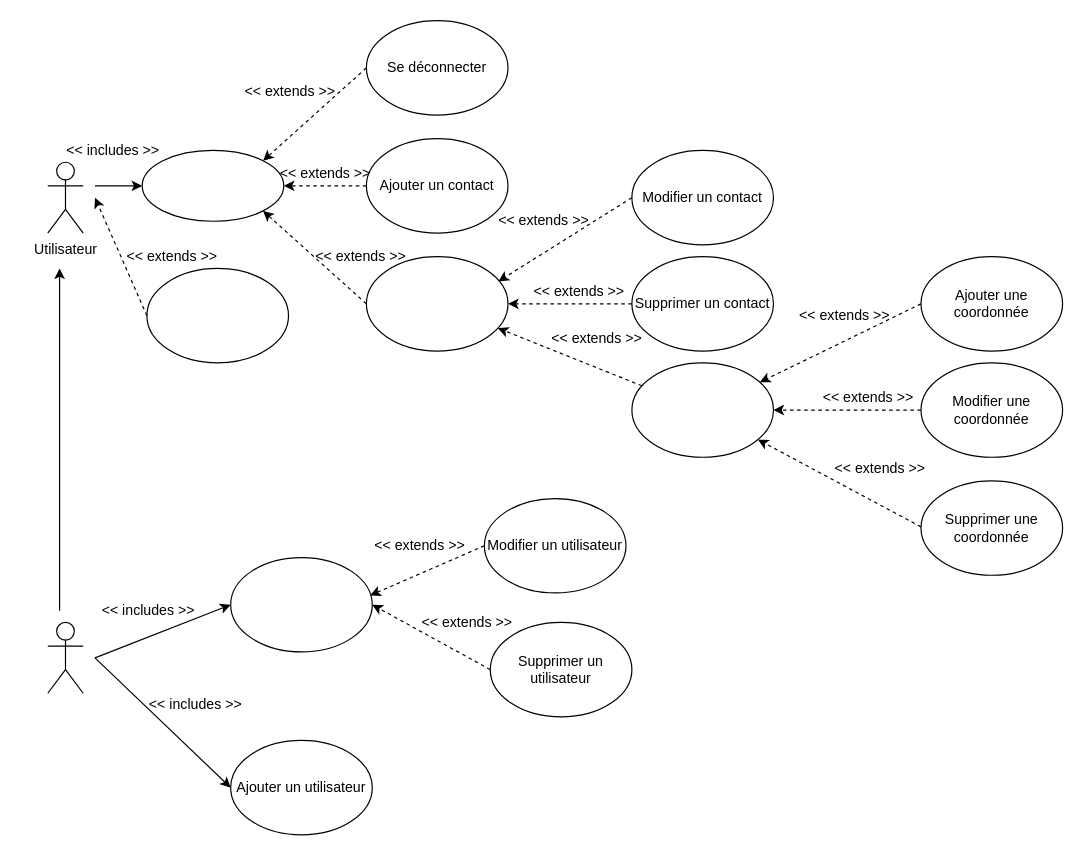
The diagram is 1083 pixels wide and 855 high, and some of its shapes have lost their labels. The shapes that lost their labels are listed below. From the top down, each one's centre as x and y in pixels, then its label:
the point at 212,185: Se connecter
the point at 217,315: Modifier coordonnées
the point at 436,303: Accéder à sa liste de contact
the point at 702,409: Afficher coordonnées du contact
the point at 301,604: Afficher liste des utilisateurs
the point at 65,657: Administrateur
